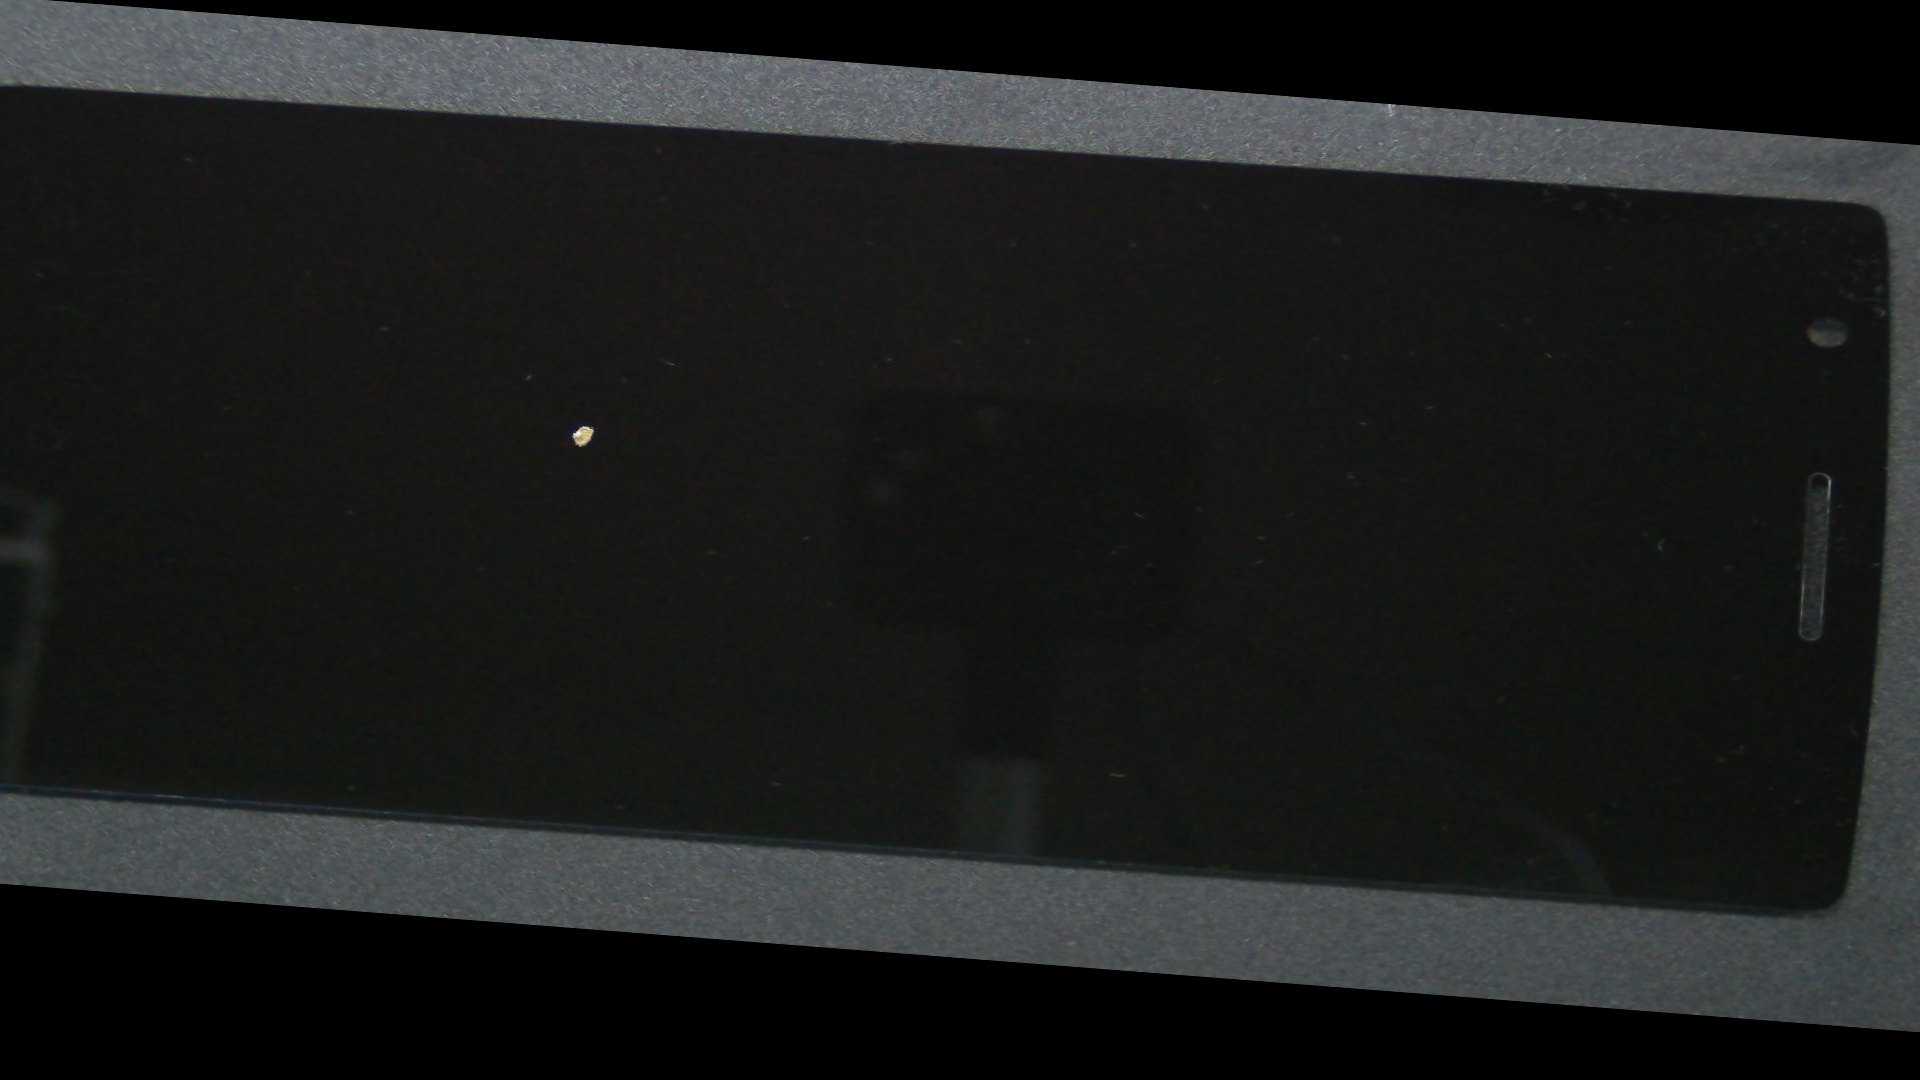oil: (193, 204, 977, 645)
